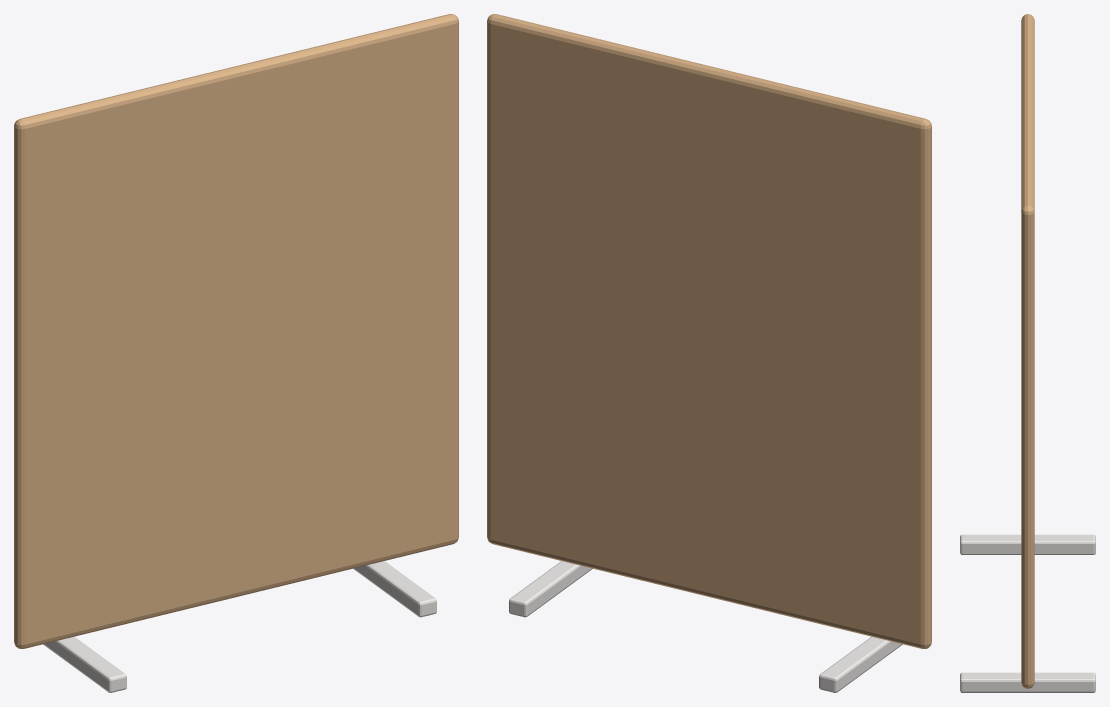
Rendered from partitions___dividers_asset_catalog_40.glb.
3 views of the same model, side by side, from view 1: azimuth 30°, elevation 25°; view 2: azimuth 150°, elevation 25°; view 3: azimuth 270°, elevation 25° (orthographic). The views are drawn at different scales.
Parts seen in each view (by area): view 1: Cube; view 2: Cube; view 3: Cube.
Boxes of the visible parts, x1=… form: Cube: x1=14, y1=14, x2=458, y2=692; Cube: x1=487, y1=14, x2=931, y2=692; Cube: x1=960, y1=14, x2=1095, y2=692.
Bounding box in the file's own units: 1.2 × 1.45 × 0.35.
